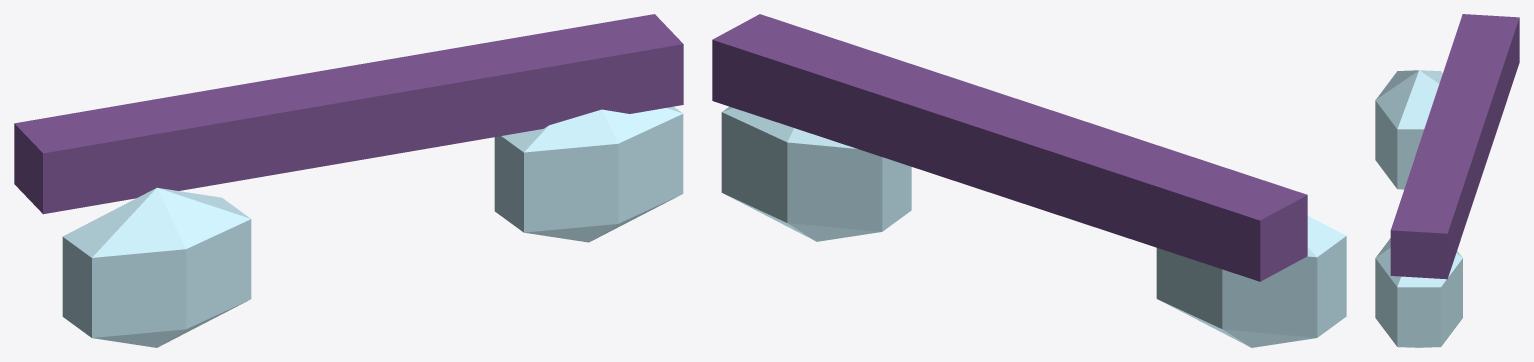
File: hostile_eye_02.glb
3 views of the same model, side by side, from view 1: azimuth 30°, elevation 25°; view 2: azimuth 150°, elevation 25°; view 3: azimuth 270°, elevation 25° (orthographic). The views are drawn at different scales.
Visible parts, largest first — view 1: hostile_eye_02; view 2: hostile_eye_02; view 3: hostile_eye_02.
Boxes of the visible parts, bbox=[...] form: hostile_eye_02: bbox=[14, 14, 683, 347]; hostile_eye_02: bbox=[712, 14, 1346, 347]; hostile_eye_02: bbox=[1375, 14, 1519, 347].
Bounding box in the file's own units: 0.3621 × 0.1116 × 0.1003.
